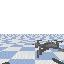drone: (31, 38, 63, 58)
